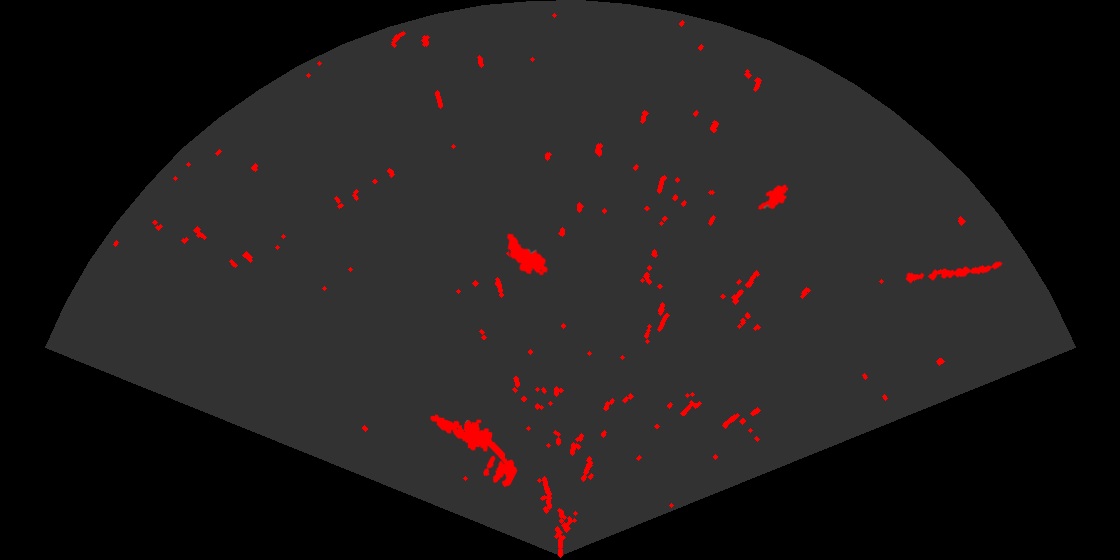AUV: (505, 232, 550, 277), (756, 183, 790, 211)
ball: (482, 454, 519, 489)
chain: (904, 260, 1004, 285)
frogman: (429, 413, 505, 465)
